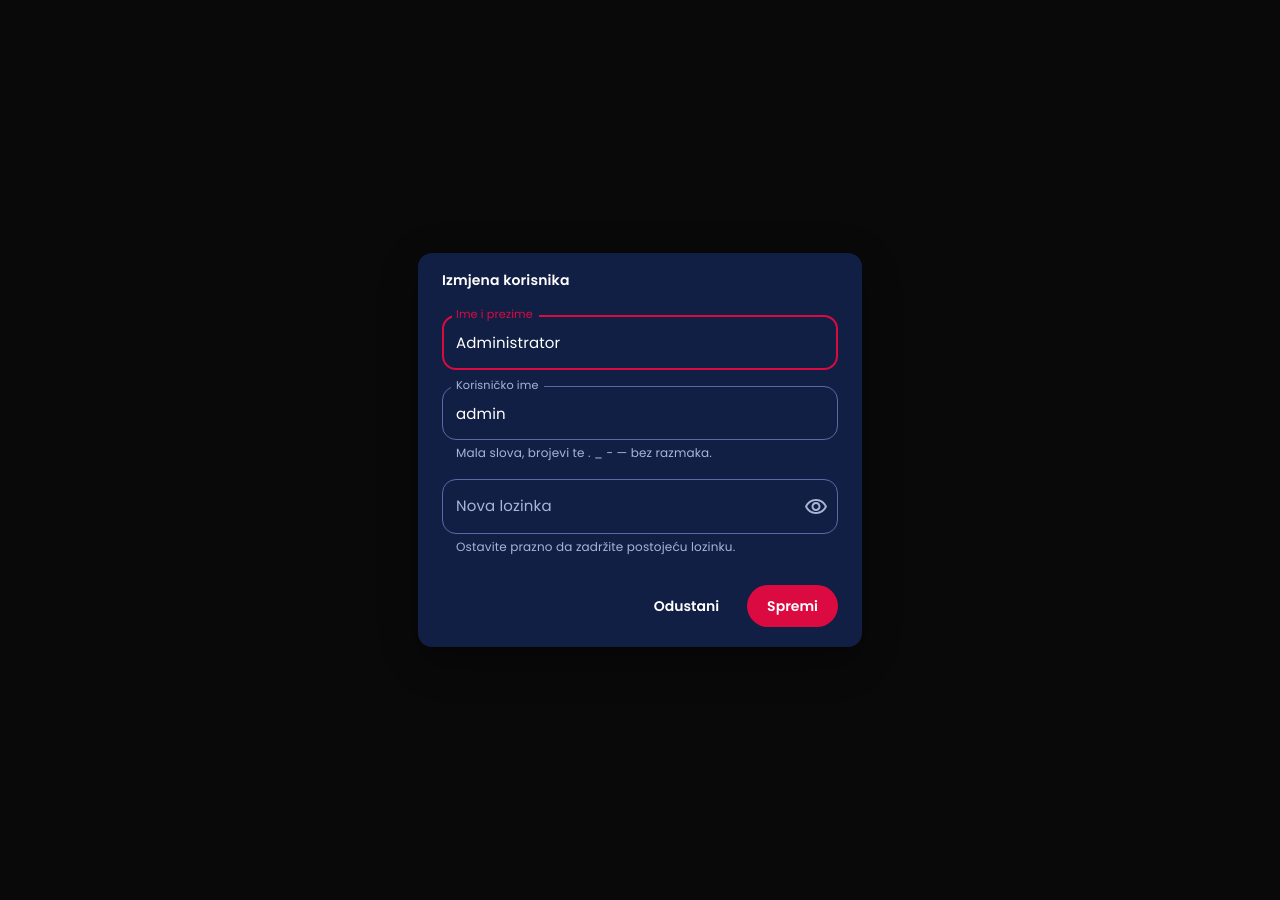
Test case: UserEditDialog › surfaces the API's refusal and stays open
The image size is (1280, 900).
Replace the text in the field labelled "Korisničko ime" with "zauzeto" at (640, 413), box [442,386,838,440]
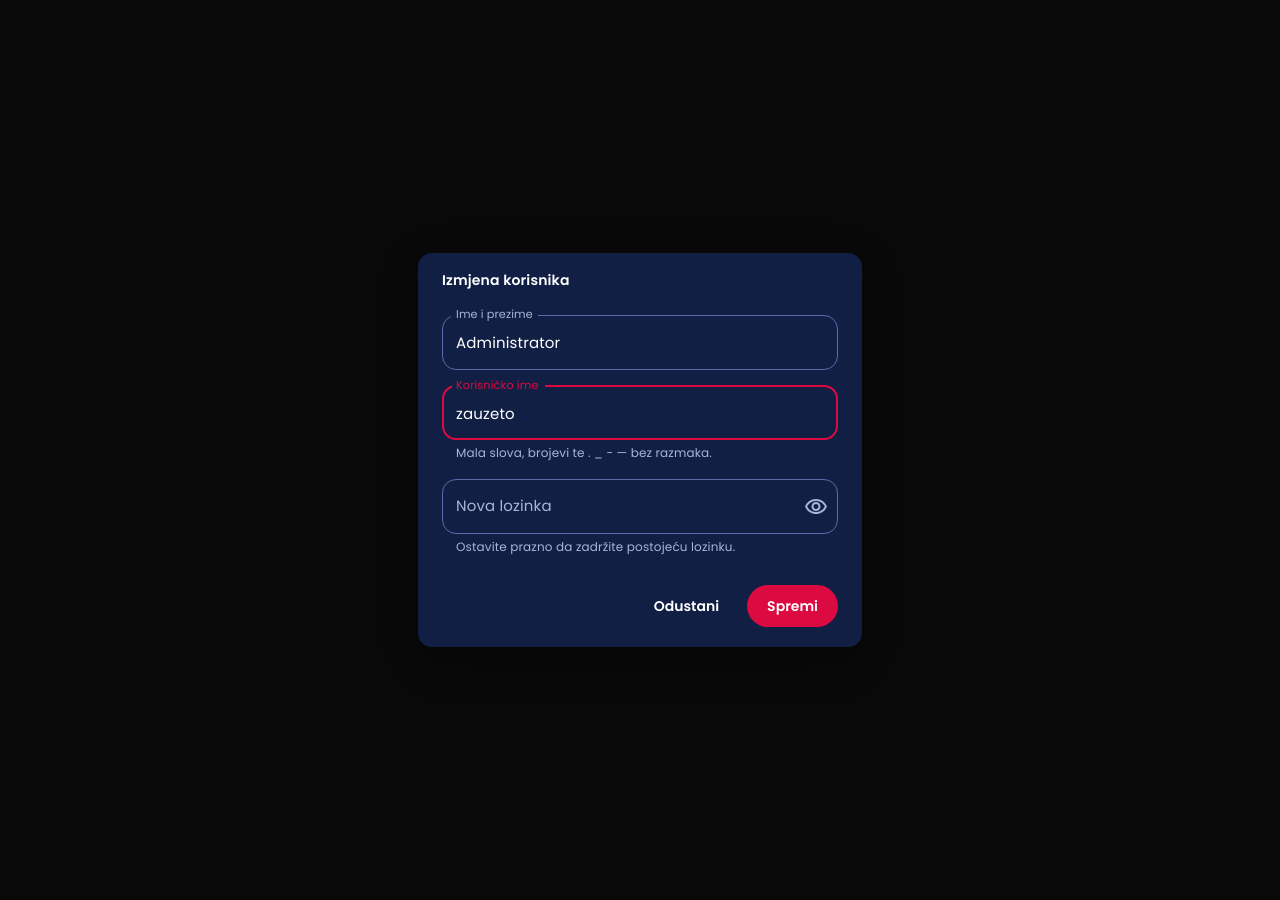
Click the button "Spremi" at (793, 606), box [747,585,838,627]
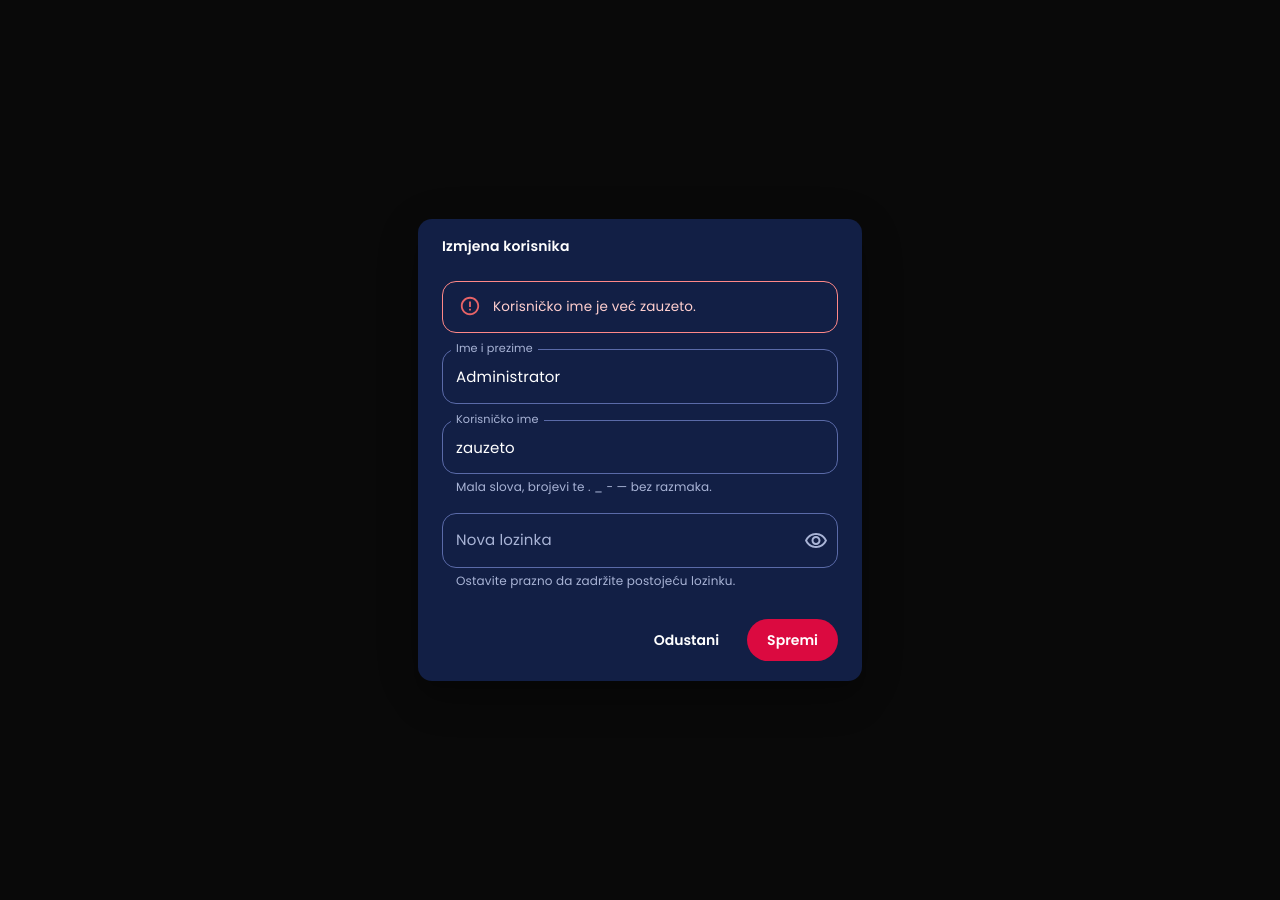
Now the text "Korisničko ime je već zauzeto." is shown, box [493,297,696,316]
